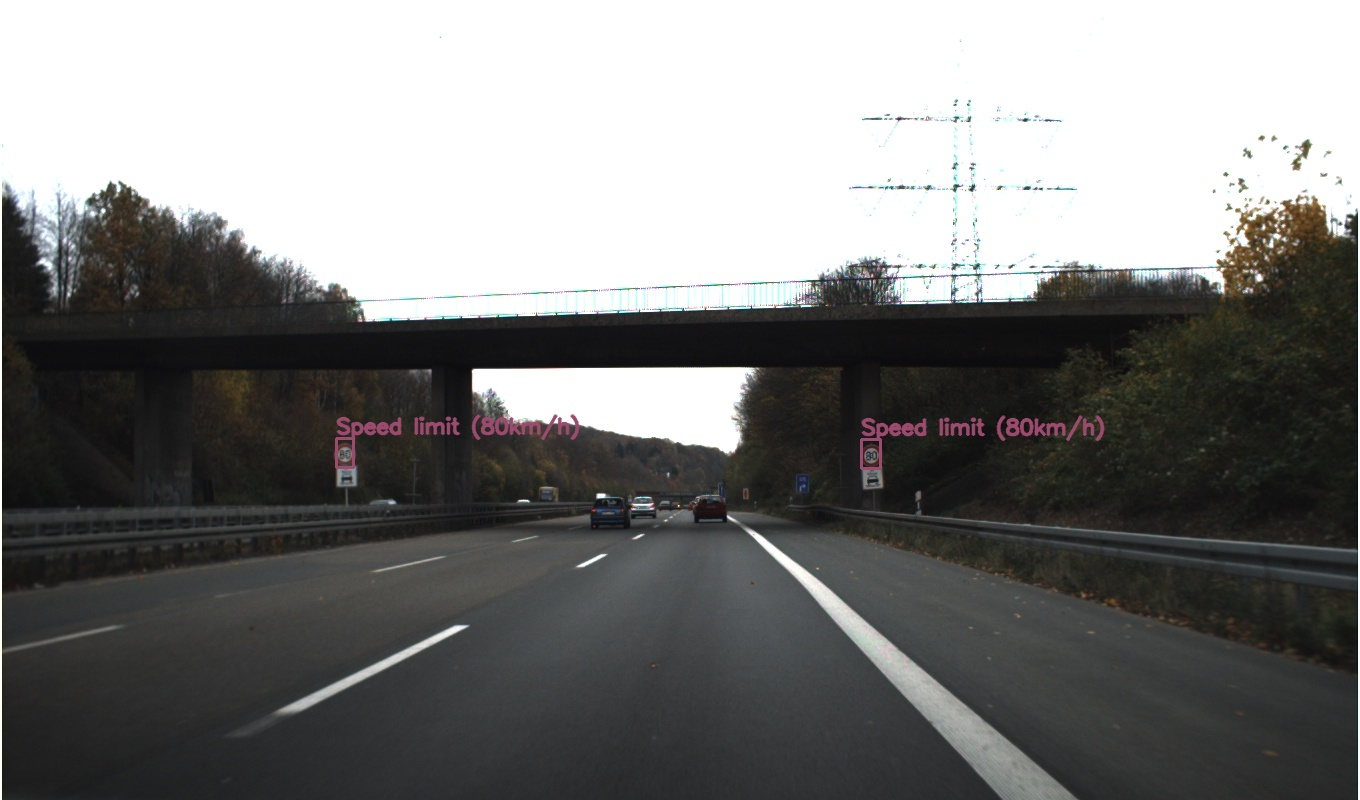Traffic signals: (988, 420, 1042, 470)
